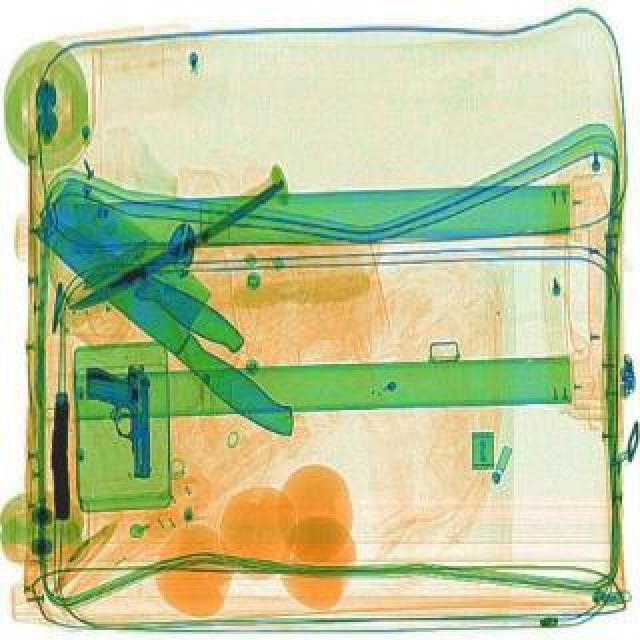gun: (84, 360, 152, 478), (50, 390, 72, 518)
knife: (20, 168, 330, 448), (26, 196, 252, 356), (62, 178, 290, 316)
